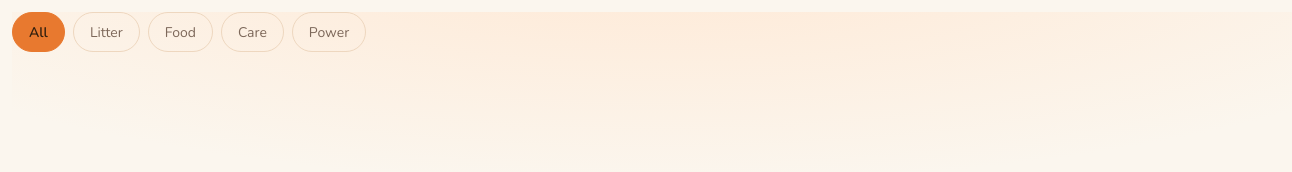
Test: HistoryView › drops a stale in-flight response that resolves after a filter switch
switch filters while the first (All) request is still in flight
Click the button "Litter" at (106, 32), box [73, 12, 140, 52]
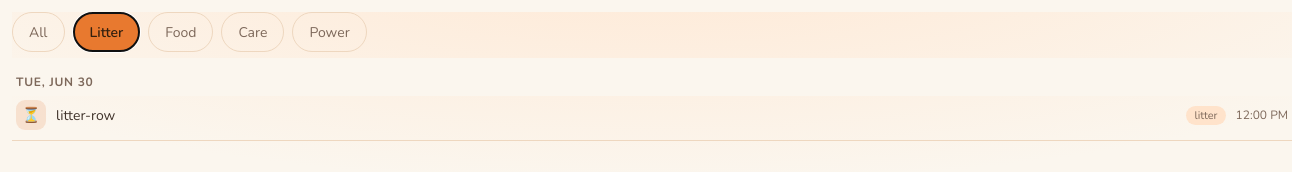
Expected: the text "litter-row" is shown, [56, 106, 115, 124]
